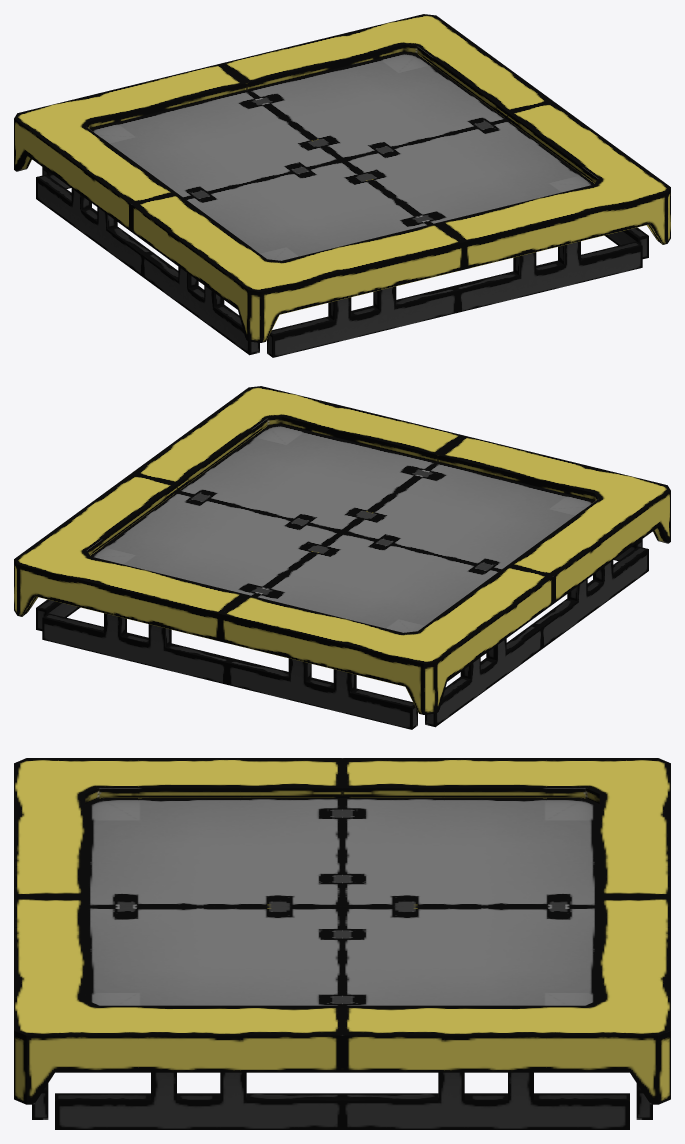
File: Platform.glb
3 renders of one model, top to bottom at view 1: azimuth 30°, elevation 25°; view 2: azimuth 150°, elevation 25°; view 3: azimuth 270°, elevation 25°, orthographic. The views are drawn at different scales.
Parts seen in each view (by area): view 1: Platform1x1.001; view 2: Platform1x1.001; view 3: Platform1x1.001.
Part boxes in pixels (bbox=[...]): Platform1x1.001: bbox=[14, 14, 670, 357]; Platform1x1.001: bbox=[14, 386, 670, 729]; Platform1x1.001: bbox=[14, 758, 670, 1129].
Bounding box in the file's own units: 4 × 0.6838 × 4.
1 material, 1 textured.
